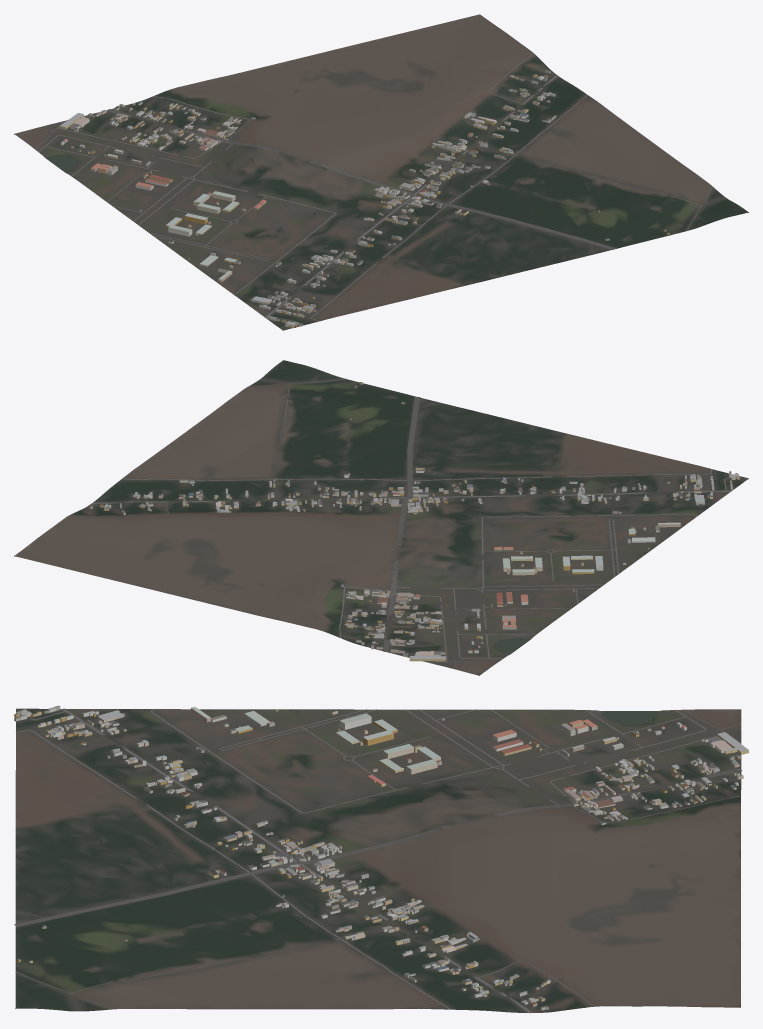
3 renders of one model, top to bottom at view 1: azimuth 30°, elevation 25°; view 2: azimuth 150°, elevation 25°; view 3: azimuth 270°, elevation 25°, orthographic. The views are drawn at different scales.
Parts seen in each view (by area): view 1: ground, buildings, roads; view 2: ground, buildings, roads; view 3: ground, buildings, roads, water.
Boxes of the visible parts, x1,y1,x2,y2 form: ground: (14,14,748,330); buildings: (59,69,669,327); roads: (34,53,713,322); ground: (14,360,748,675); buildings: (90,382,739,661); roads: (68,379,731,669); ground: (15,708,741,1012); buildings: (14,705,748,1010); roads: (14,708,742,1013); water: (604,711,657,725).
Size of the model in its own units: 1403 by 28.8 by 1419.
